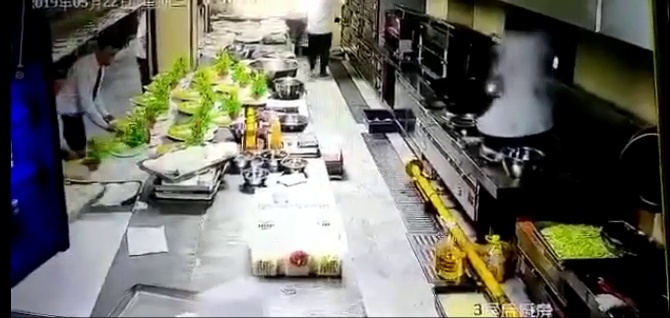smoke: (480, 35, 558, 136)
